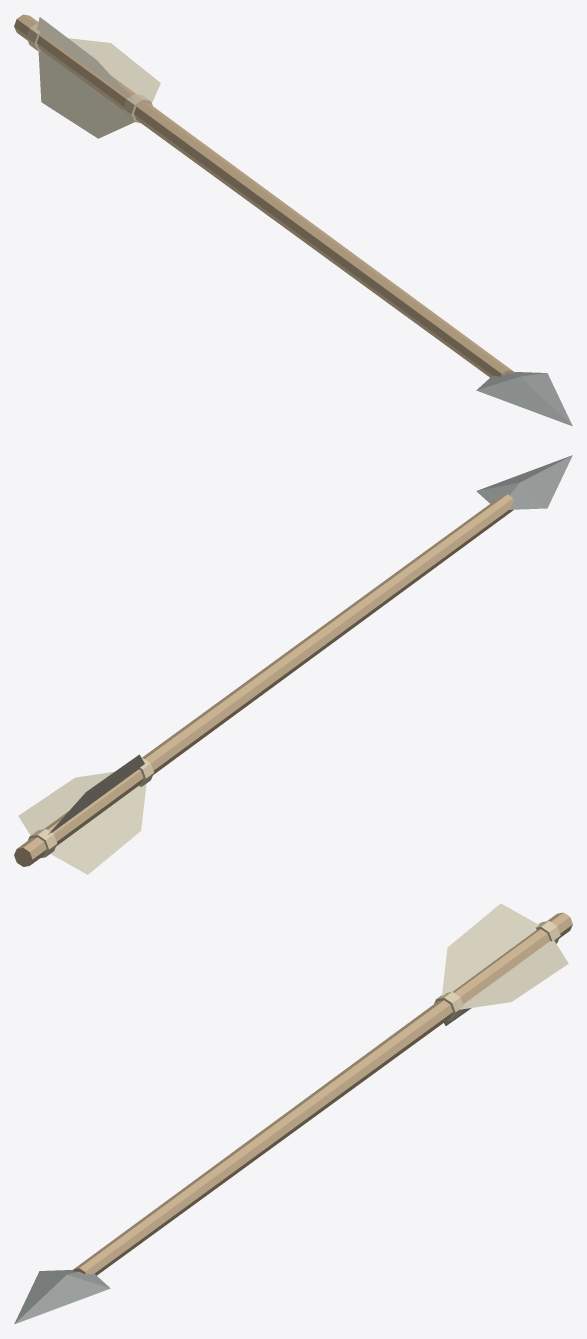
The model's file is arrow.glb.
3 renders of one model, top to bottom at view 1: azimuth 30°, elevation 25°; view 2: azimuth 150°, elevation 25°; view 3: azimuth 330°, elevation 25°, orthographic.
Visible parts, largest first — view 1: Arrow_Shaft, Tail_Fletching_2, Iron_Arrowhead, Tail_Fletching_0, Tail_Fletching_1; view 2: Arrow_Shaft, Tail_Fletching_2, Iron_Arrowhead, Tail_Fletching_0, Tail_Fletching_1; view 3: Arrow_Shaft, Tail_Fletching_1, Tail_Fletching_0, Iron_Arrowhead.
Boxes of the visible parts, left/top/right/bottom form: Arrow_Shaft: left=14, top=14, right=513, bottom=377; Tail_Fletching_2: left=38, top=50, right=134, bottom=138; Iron_Arrowhead: left=476, top=372, right=572, bottom=426; Tail_Fletching_0: left=68, top=38, right=160, bottom=102; Tail_Fletching_1: left=37, top=17, right=133, bottom=100; Arrow_Shaft: left=14, top=494, right=514, bottom=866; Tail_Fletching_2: left=51, top=783, right=146, bottom=874; Iron_Arrowhead: left=476, top=455, right=572, bottom=509; Tail_Fletching_0: left=18, top=771, right=114, bottom=835; Tail_Fletching_1: left=48, top=754, right=144, bottom=834; Arrow_Shaft: left=73, top=912, right=572, bottom=1275; Tail_Fletching_1: left=442, top=903, right=538, bottom=995; Tail_Fletching_0: left=460, top=940, right=568, bottom=1009; Iron_Arrowhead: left=14, top=1270, right=110, bottom=1324.
Bounding box in the file's own units: 0.023 × 0.0225 × 0.2667.
